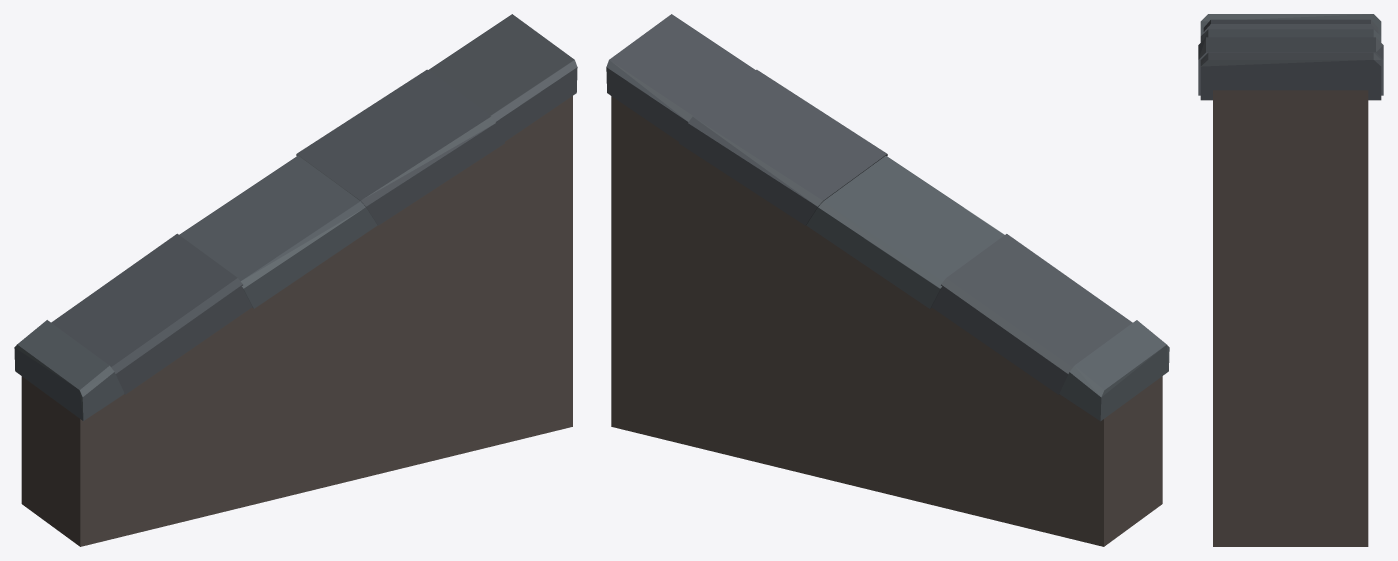
The model's file is MCastle_LowWalls_01.FBX.
3 renders of one model, left to right at view 1: azimuth 30°, elevation 25°; view 2: azimuth 150°, elevation 25°; view 3: azimuth 270°, elevation 25°, orthographic. The views are drawn at different scales.
Parts seen in each view (by area): view 1: MCastle_LowWalls_01_LOD0; view 2: MCastle_LowWalls_01_LOD0; view 3: MCastle_LowWalls_01_LOD0.
Boxes of the visible parts, left/top/right/bottom form: MCastle_LowWalls_01_LOD0: left=14, top=14, right=577, bottom=546; MCastle_LowWalls_01_LOD0: left=606, top=14, right=1169, bottom=546; MCastle_LowWalls_01_LOD0: left=1198, top=14, right=1383, bottom=546.
Size of what is drawn, in the model's own units: 4.02 by 2.86 by 0.985.
